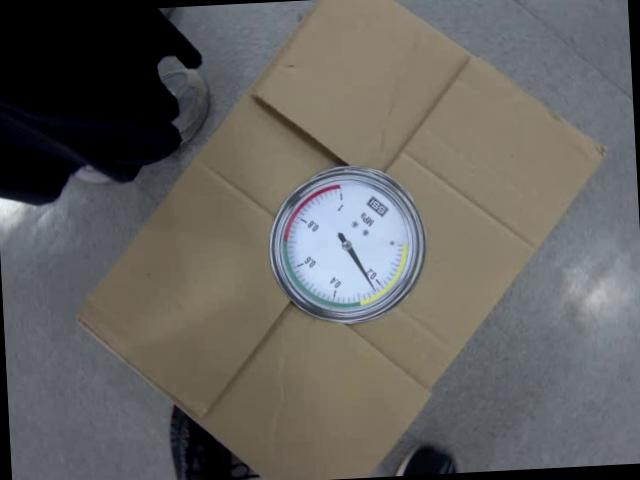Dashboard: (266, 162, 432, 330)
ssi: (364, 191, 389, 219)
